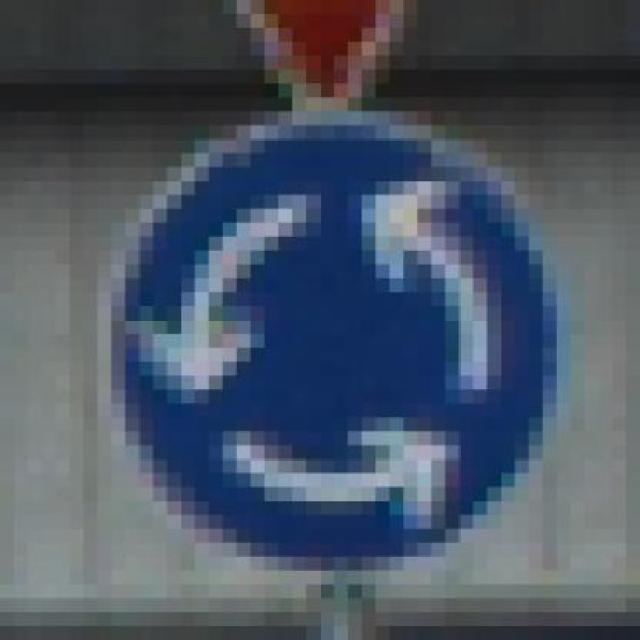Round-About: (56, 97, 598, 585)
